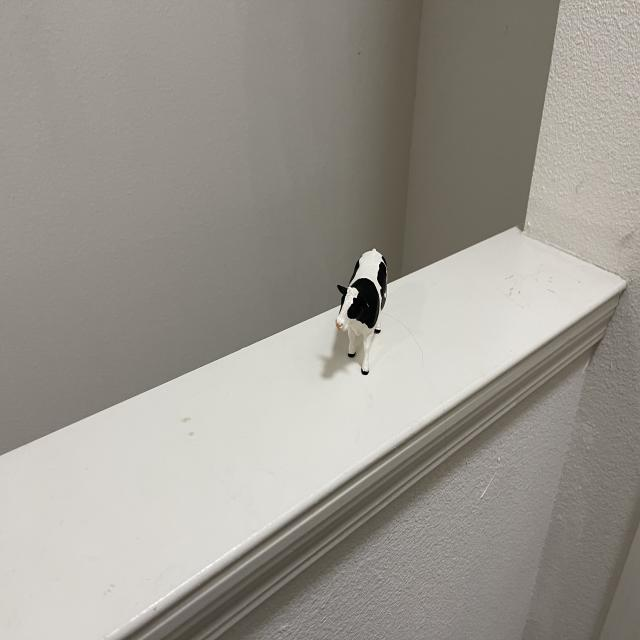cow: (324, 244, 395, 375)
